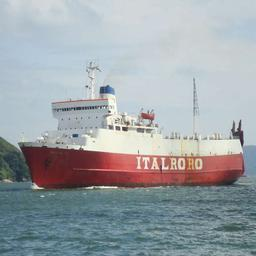Ship: (16, 80, 249, 189)
